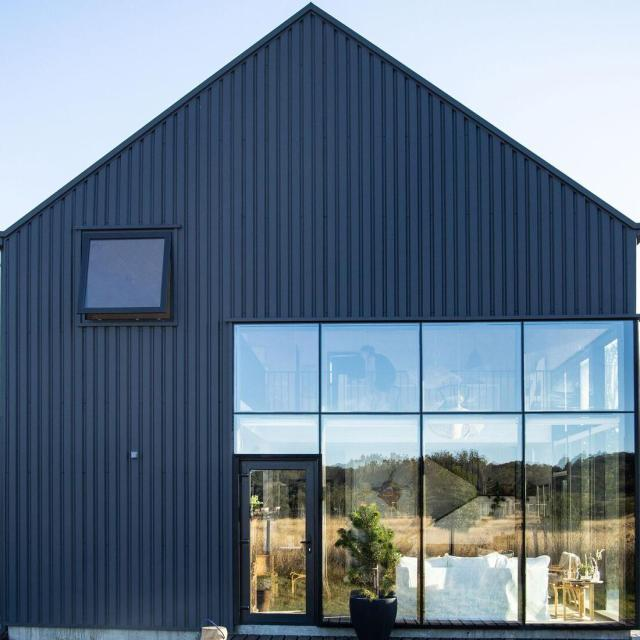door: (233, 452, 320, 630)
window: (233, 324, 639, 629), (84, 240, 165, 312)
